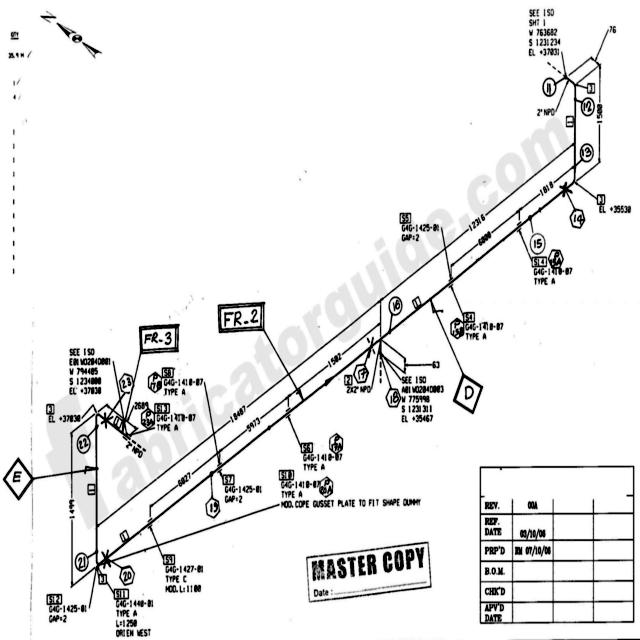Item number: (217, 301, 268, 337), (139, 322, 181, 355), (279, 468, 294, 481), (46, 593, 62, 605), (114, 587, 129, 599), (154, 401, 170, 412), (463, 310, 475, 323), (161, 366, 175, 377), (595, 193, 606, 206), (399, 212, 411, 223), (224, 473, 235, 485), (566, 114, 574, 128), (87, 482, 95, 495), (47, 402, 54, 414)
Measrement: (97, 309, 376, 529), (379, 140, 573, 305), (218, 389, 295, 455), (297, 326, 373, 392), (149, 445, 221, 511), (449, 206, 518, 267), (515, 163, 573, 218), (591, 13, 621, 70)
Pipeline: (360, 97, 588, 354)
Symbol: (93, 403, 112, 432), (93, 547, 113, 571), (557, 178, 576, 198)
Weld number: (530, 232, 547, 255), (119, 371, 135, 395), (541, 75, 557, 98), (76, 432, 91, 455), (119, 564, 135, 585), (580, 141, 594, 164), (580, 96, 595, 117), (74, 551, 88, 572)
other: (278, 479, 421, 509), (385, 368, 443, 425), (67, 343, 114, 397), (527, 4, 562, 58), (115, 595, 155, 639), (164, 564, 206, 594), (463, 320, 506, 342), (153, 413, 197, 433), (162, 377, 205, 397), (400, 224, 441, 244), (47, 604, 88, 624), (533, 267, 574, 287), (223, 484, 263, 504), (302, 453, 341, 472), (514, 544, 553, 559), (48, 413, 80, 425), (598, 205, 633, 215)
